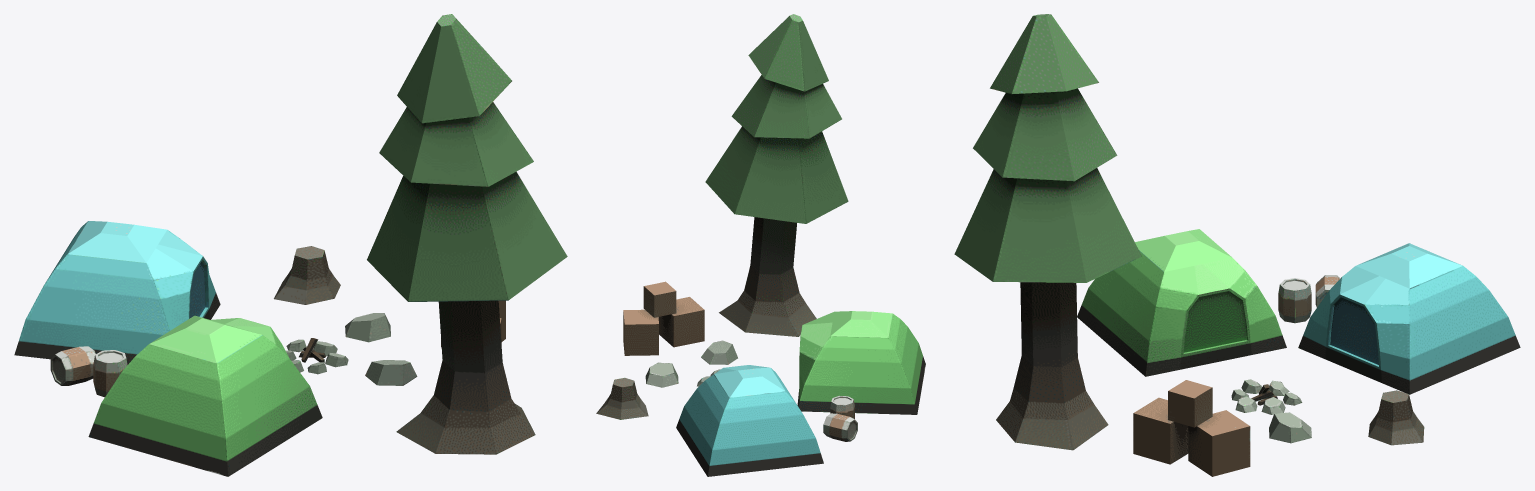
Rendered from waste_1.fbx.
3 renders of one model, left to right at view 1: azimuth 30°, elevation 25°; view 2: azimuth 150°, elevation 25°; view 3: azimuth 270°, elevation 25°, orthographic. The views are drawn at different scales.
Parts seen in each view (by area): view 1: Circle; view 2: Circle; view 3: Circle.
Part boxes in pixels (bbox=[...]): Circle: bbox=[14, 14, 567, 476]; Circle: bbox=[596, 14, 925, 476]; Circle: bbox=[954, 14, 1520, 476].
Bounding box in the file's own units: 0.0294 × 0.0289 × 0.0374.
